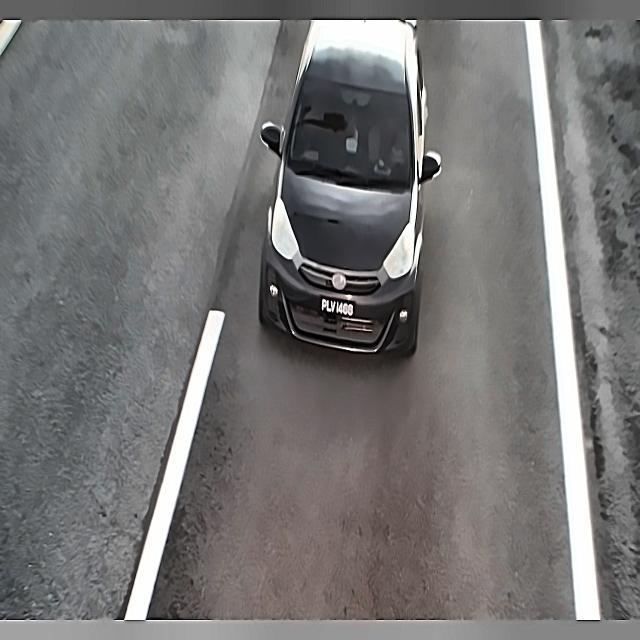car: (319, 292, 357, 328)
